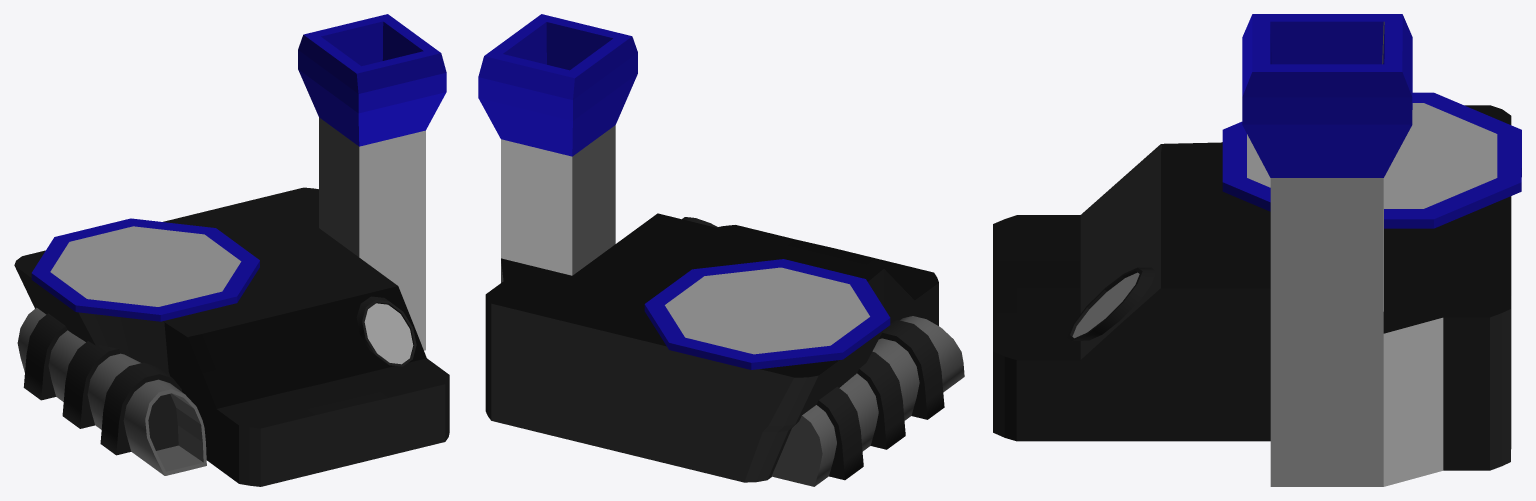
File: Skyport_Human.FBX
The picture shows the model from 3 angles, left to right: view 1: azimuth 30°, elevation 25°; view 2: azimuth 150°, elevation 25°; view 3: azimuth 270°, elevation 25°; orthographic projection. The views are drawn at different scales.
Parts seen in each view (by area): view 1: Cylinder003, pAD, entry; view 2: Cylinder003, pAD, entry; view 3: Cylinder003, pAD.
Part boxes in pixels (x1=…): Cylinder003: x1=14, y1=14, x2=449, y2=486; pAD: x1=31, y1=218, x2=259, y2=321; entry: x1=17, y1=307, x2=206, y2=475; Cylinder003: x1=478, y1=14, x2=938, y2=482; pAD: x1=644, y1=259, x2=890, y2=369; entry: x1=771, y1=316, x2=964, y2=486; Cylinder003: x1=993, y1=14, x2=1511, y2=486; pAD: x1=1222, y1=92, x2=1521, y2=228.
Size of the model in its own units: 235 by 192 by 218.
